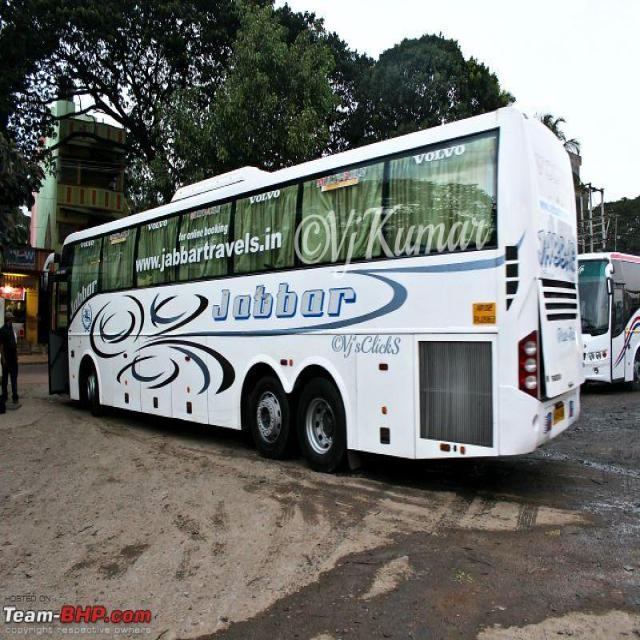bus: (50, 107, 584, 470)
